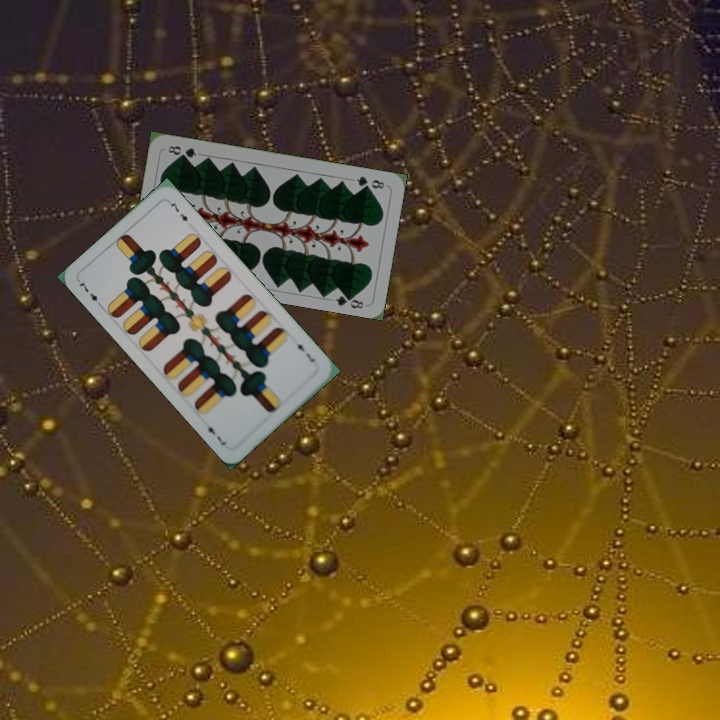E7: (74, 277, 105, 310), (292, 336, 317, 365)
G8: (352, 172, 387, 191)
